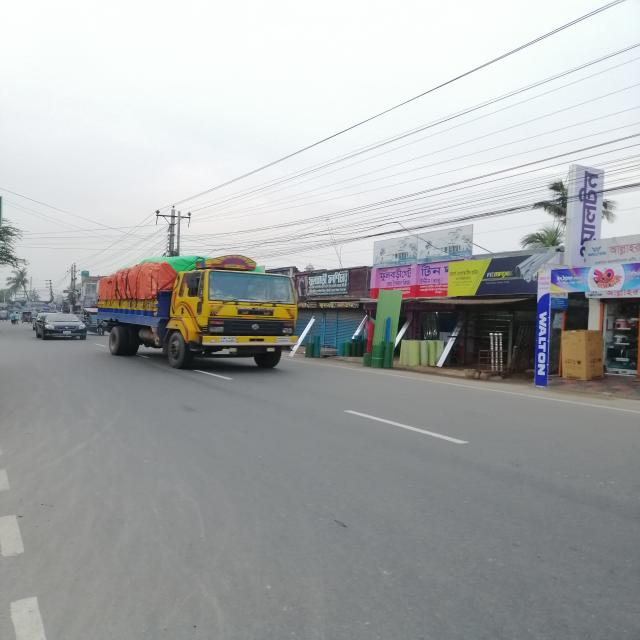Car: (37, 312, 94, 343)
Truck: (93, 239, 329, 389)
